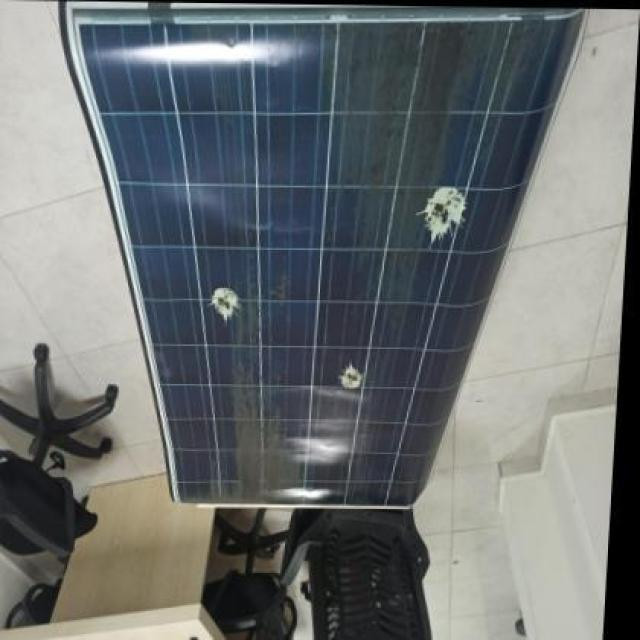soiled: (64, 3, 579, 511)
